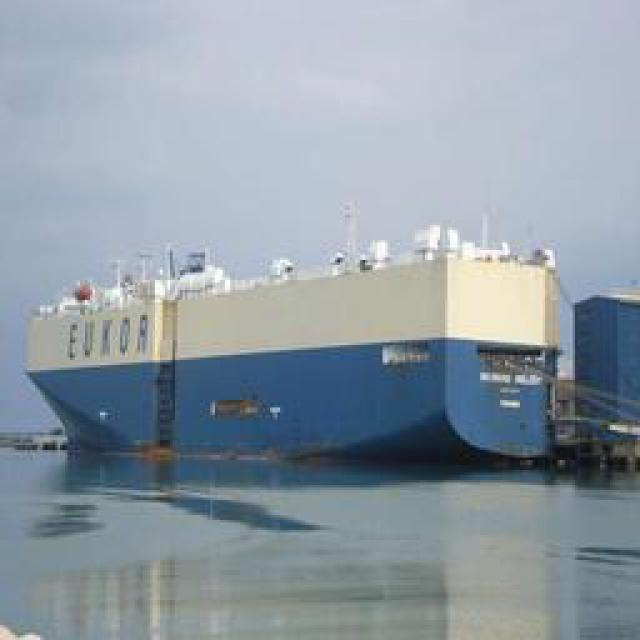Ship: (25, 206, 590, 466)
